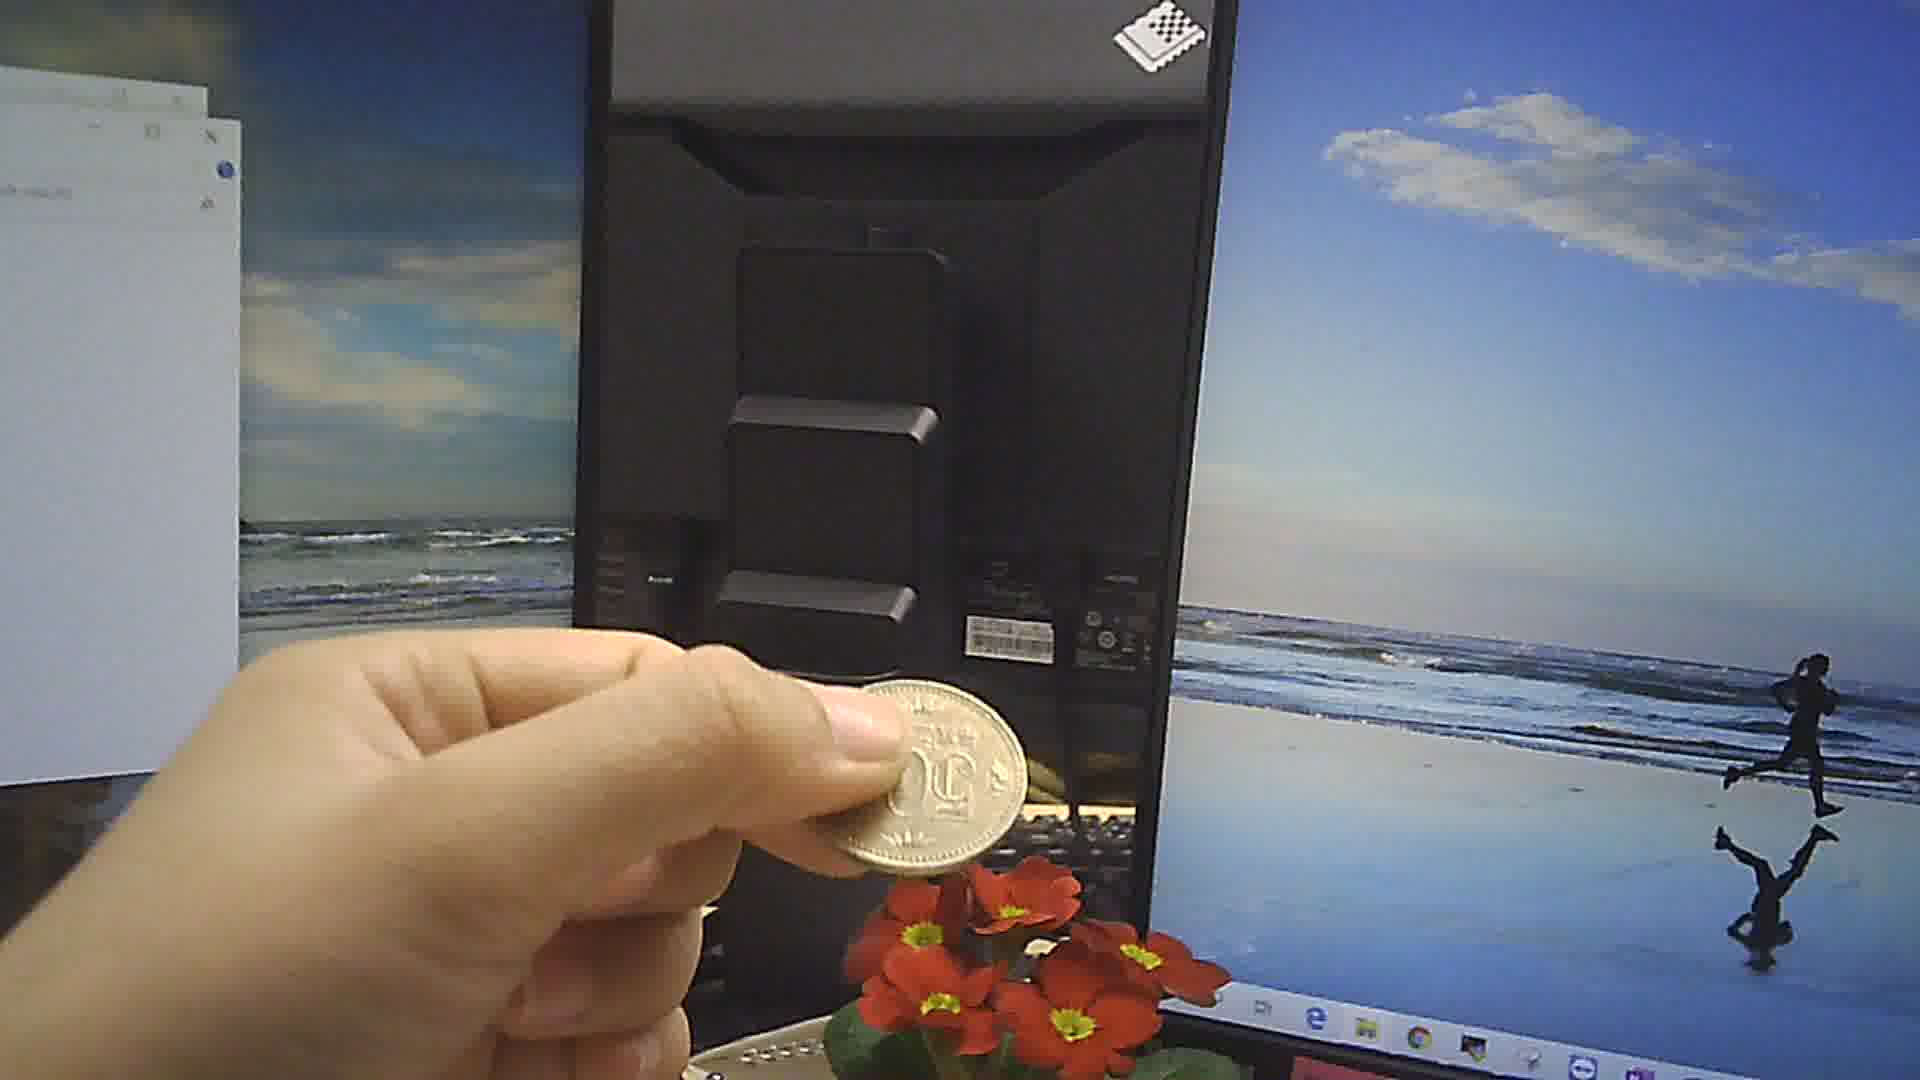500 Yen: (806, 675, 1034, 874)
